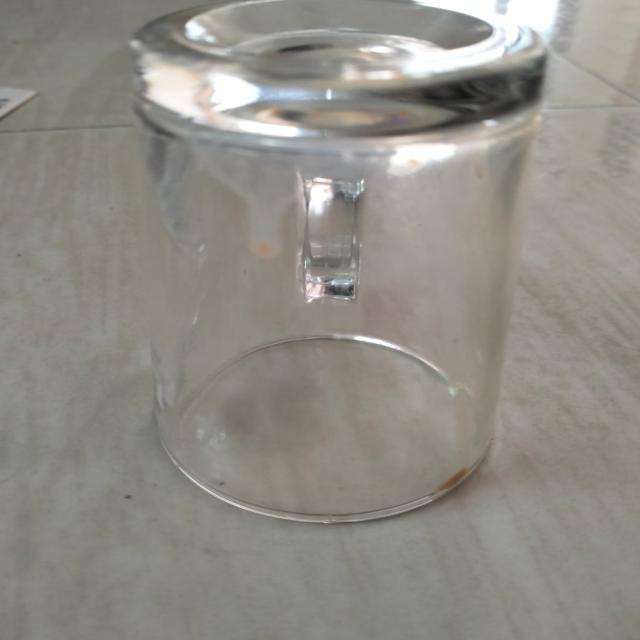glass-VX4N: (118, 3, 548, 516)
